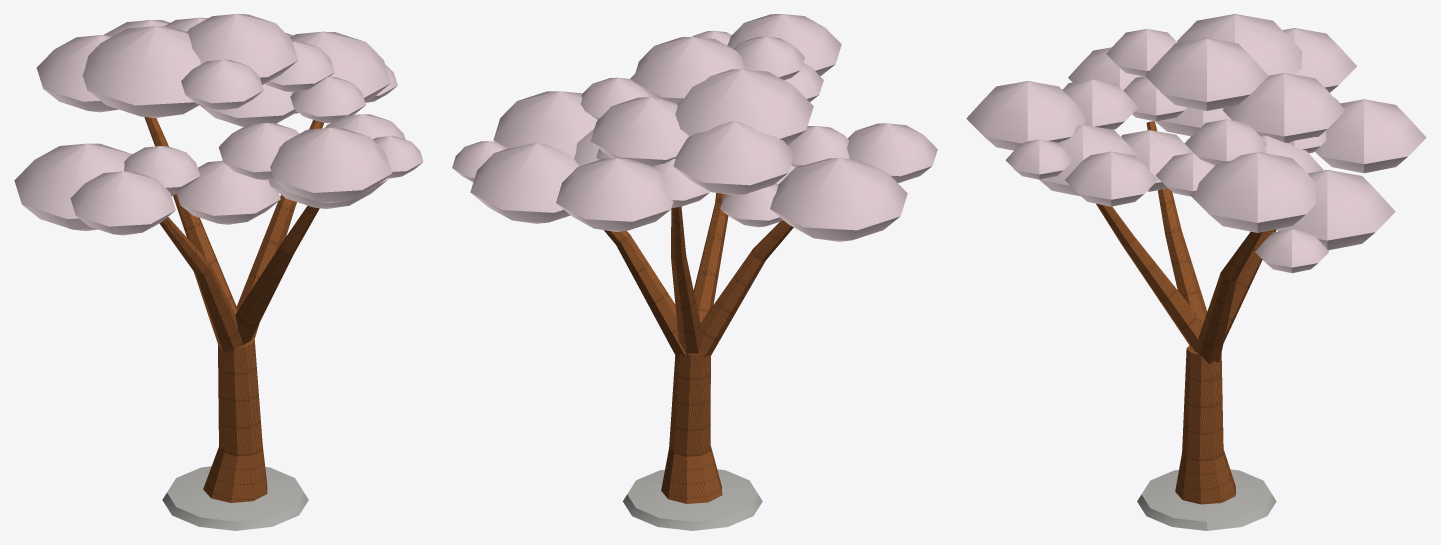
Rendered from simplified.glb.
3 renders of one model, left to right at view 1: azimuth 30°, elevation 25°; view 2: azimuth 150°, elevation 25°; view 3: azimuth 270°, elevation 25°, orthographic. The views are drawn at different scales.
Visible parts, largest first — view 1: cherry-tree-blossom; view 2: cherry-tree-blossom; view 3: cherry-tree-blossom.
Part boxes in pixels (<box>): cherry-tree-blossom: <box>14,14,423,530</box>; cherry-tree-blossom: <box>452,14,937,530</box>; cherry-tree-blossom: <box>966,14,1426,530</box>.
Size of the model in its own units: 4.09 by 4.56 by 4.09.
Materials: 3 (2 with a texture image).
